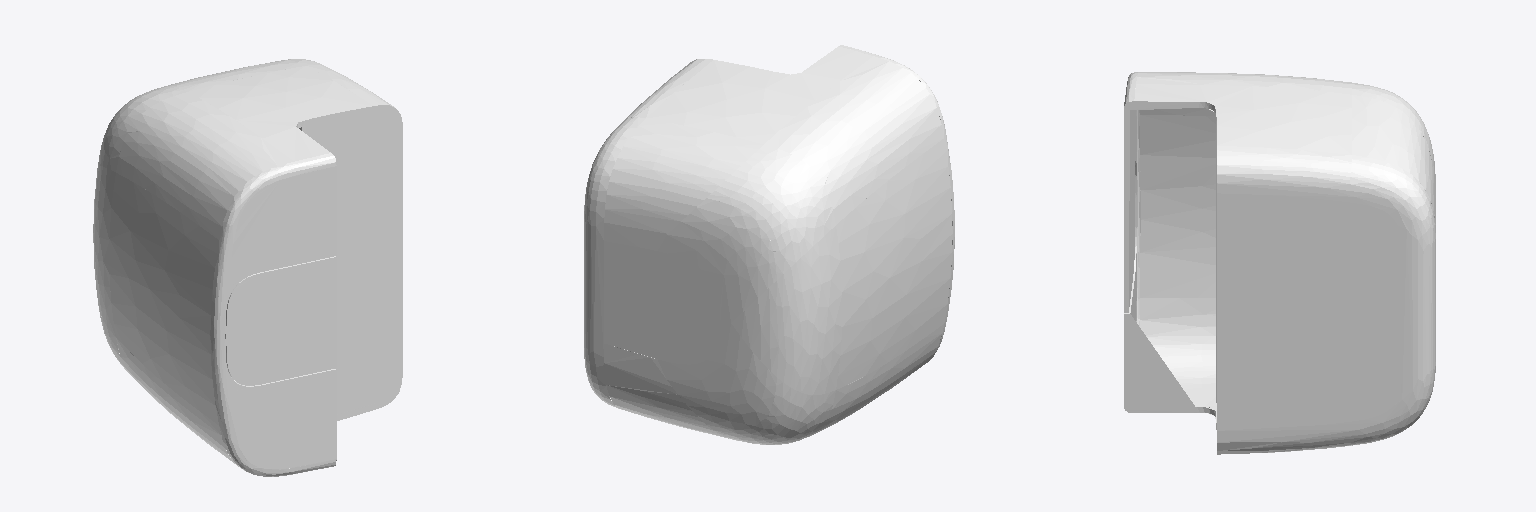
3 renders of one model, left to right at view 1: azimuth 30°, elevation 25°; view 2: azimuth 150°, elevation 25°; view 3: azimuth 270°, elevation 25°, orthographic.
Visible parts, largest first — view 1: Wrist_Roll_Wrist_Roll; view 2: Wrist_Roll_Wrist_Roll; view 3: Wrist_Roll_Wrist_Roll.
Part boxes in pixels (left/top/right/bottom): Wrist_Roll_Wrist_Roll: left=93, top=59, right=402, bottom=476; Wrist_Roll_Wrist_Roll: left=584, top=45, right=954, bottom=444; Wrist_Roll_Wrist_Roll: left=1124, top=72, right=1435, bottom=454.
Bounding box in the file's own units: 0.0787 × 0.1018 × 0.0925.
Materials: 1 (1 with a texture image).